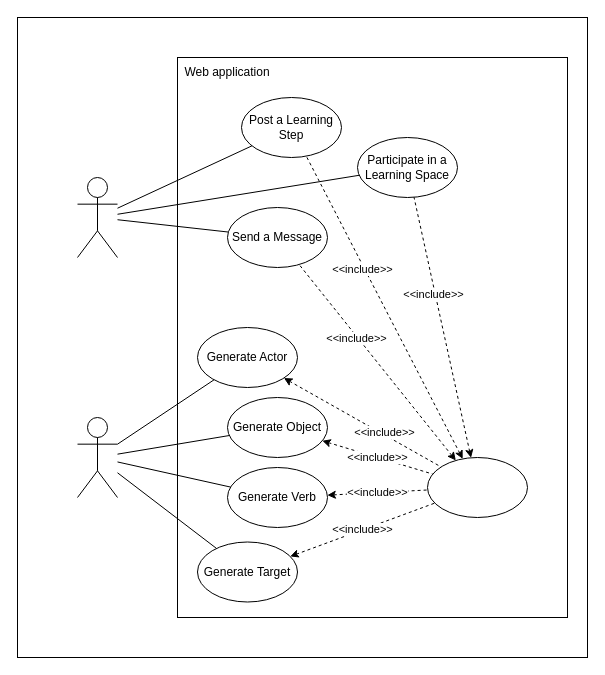
The diagram is 605 pixels wide and 675 high, and some of its shapes have lost their labels. Here are the shapes that lost their labels. From the top down, the centre of each, then its label:
(x=97, y=217): User
(x=97, y=457): Activity Stream System
(x=477, y=487): Generate Activity Stream
